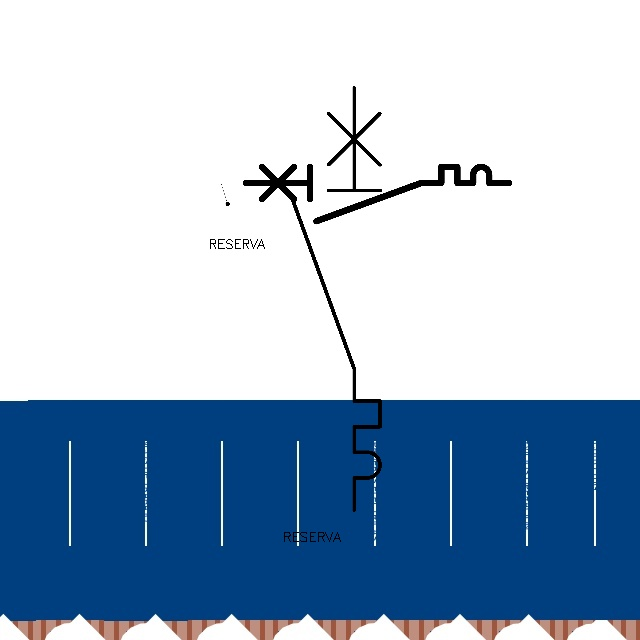interruptor_termomagnetico: (282, 77, 391, 521), (239, 160, 516, 227)
